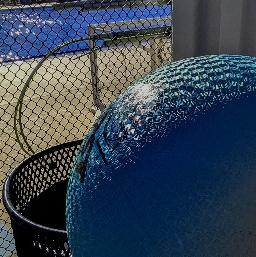algae: (69, 55, 256, 257)
